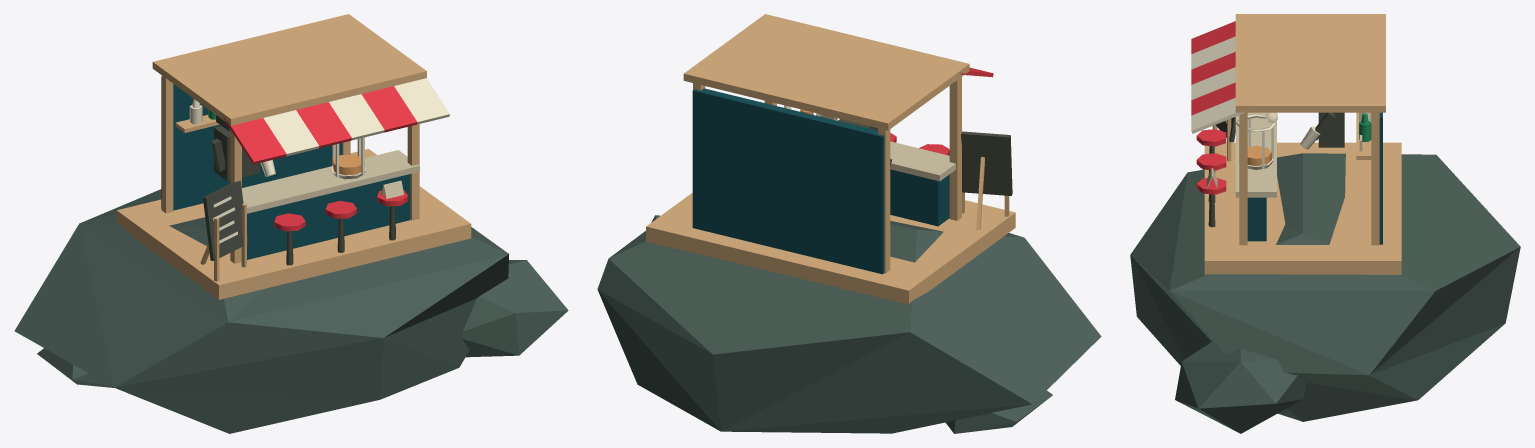
The model's file is apero-bar.glb.
The picture shows the model from 3 angles, left to right: view 1: azimuth 30°, elevation 25°; view 2: azimuth 150°, elevation 25°; view 3: azimuth 270°, elevation 25°; orthographic projection. The views are drawn at different scales.
Visible parts, largest first — view 1: AperoBar, Board, Stool (×3), Bartender, Menu, Glass; view 2: AperoBar, Board, Menu; view 3: AperoBar, Stool (×3), Bartender, Glass, toy_shake, toy_fill.
Part boxes in pixels (bbox=[...]): AperoBar: bbox=[14, 14, 568, 433]; Board: bbox=[203, 180, 248, 260]; Stool (×3): bbox=[274, 190, 408, 265]; Bartender: bbox=[211, 115, 259, 181]; Menu: bbox=[200, 203, 246, 281]; Glass: bbox=[331, 137, 365, 179]; AperoBar: bbox=[597, 14, 1101, 433]; Board: bbox=[961, 131, 1012, 195]; Menu: bbox=[962, 157, 1009, 229]; AperoBar: bbox=[1130, 14, 1520, 433]; Stool (×3): bbox=[1196, 129, 1226, 227]; Bartender: bbox=[1318, 112, 1344, 147]; Glass: bbox=[1236, 114, 1276, 169]; toy_shake: bbox=[1300, 112, 1334, 149]; toy_fill: bbox=[1247, 145, 1271, 166].
Bounding box in the file's own units: 9.79 × 6.87 × 7.53.
